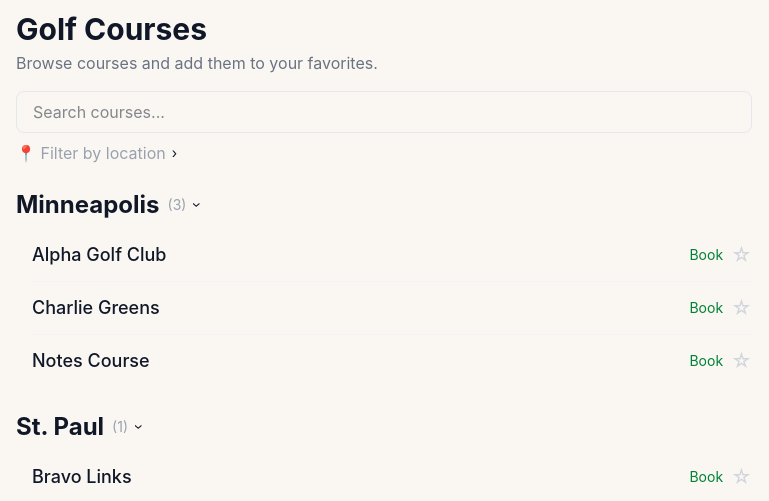
it: CoursesPage › filters courses by city when typing in search
In the field with placeholder "Search courses...": (384, 112) left=16, top=91, right=752, bottom=133, type "st. paul"
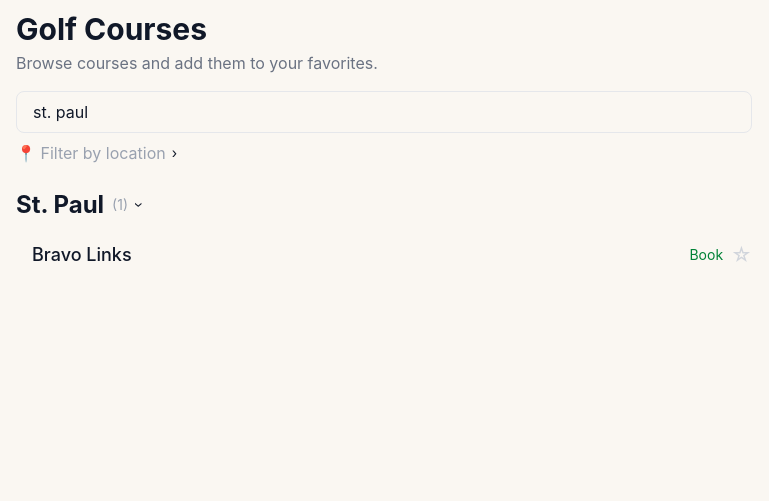
Expected: the link "Bravo Links" is shown, left=32, top=244, right=132, bottom=265
Expected: the link "Alpha Golf Club" is gone
